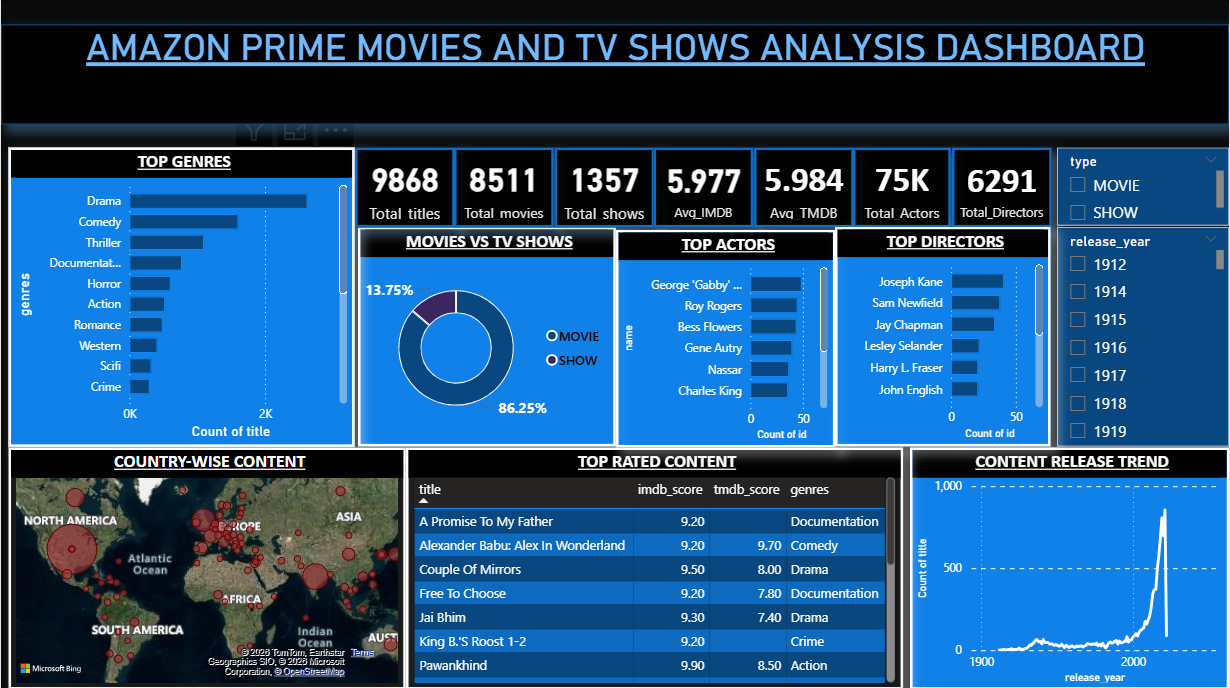

What the dashboard file says about the page in this screenshot:
{"tool":"powerbi","page":{"name":"Page 1","canvas":[1280,720],"ordinal":0},"visuals":[{"type":"donutChart","title":"MOVIES VS TV SHOWS","fields":{"Category":["titles.type"],"Y":["CountNonNull(titles.title)"]},"box":[372.3,238.1,268.3,228.7],"z":0},{"type":"lineChart","title":"CONTENT RELEASE TREND","fields":{"Category":["titles.release_year"],"Y":["CountNonNull(titles.title)"]},"box":[946.8,466.8,332.6,253.2],"z":1000},{"type":"barChart","title":"TOP GENRES","fields":{"Category":["titles.genres"],"Y":["CountNonNull(titles.title)"]},"box":[7.6,155,360.9,311.8],"z":2000},{"type":"textbox","title":"AMAZON PRIME MOVIES AND TV SHOWS ANALYSIS DASHBOARD","box":[0,26.5,1279.4,103.9],"z":3000},{"type":"card","fields":{"Values":["credits.Total_titles"]},"box":[368.5,155,103.9,83.2],"z":4000},{"type":"card","fields":{"Values":["credits.Total_movies"]},"box":[472.4,155,103.9,83.2],"z":5000},{"type":"card","fields":{"Values":["credits.Total_shows"]},"box":[576.4,155,103.9,83.2],"z":6000},{"type":"card","fields":{"Values":["credits.Avg_IMDB_score"]},"box":[680.3,155,103.9,83.2],"z":7000},{"type":"card","fields":{"Values":["credits.Avg_TMDB"]},"box":[784.3,155,103.9,83.2],"z":8000},{"type":"card","fields":{"Values":["credits.Total_Actors"]},"box":[888.2,155,102,83.2],"z":9000},{"type":"card","fields":{"Values":["credits.Total_Director"]},"box":[990.2,155,103.9,83.2],"z":10000},{"type":"slicer","fields":{"Values":["titles.type"]},"box":[1099.9,155,179.5,81.3],"z":11000},{"type":"slicer","fields":{"Values":["titles.release_year"]},"box":[1099.9,238.1,179.5,228.7],"z":12000},{"type":"map","title":"COUNTRY-WISE CONTENT","fields":{"Category":["titles.production_countries"],"Size":["CountNonNull(titles.title)"]},"box":[7.6,466.8,413.9,253.2],"z":13000},{"type":"tableEx","title":"TOP RATED CONTENT","fields":{"Values":["titles.title","titles.imdb_score","titles.tmdb_score","titles.genres"]},"box":[421.4,466.8,517.8,253.2],"z":14000},{"type":"barChart","title":"TOP ACTORS","fields":{"Category":["credits.name"],"Y":["CountNonNull(credits.id)"]},"box":[640.6,240,228.7,226.8],"z":15000},{"type":"clusteredBarChart","title":"TOP DIRECTORS","fields":{"Category":["credits.name"],"Y":["CountNonNull(credits.id)"]},"box":[869.3,238.1,224.9,228.7],"z":16000}]}

Visuals, with their boxes in screenshot pixels (x1, y1, x2, y2), scaled from the page's 1280x720 canvas onto the 1230x688 screenshot:
"MOVIES VS TV SHOWS" donutChart: 358:228:616:446
"CONTENT RELEASE TREND" lineChart: 910:446:1229:687
"TOP GENRES" barChart: 7:148:354:446
"AMAZON PRIME MOVIES AND TV SHOWS ANALYSIS DASHBOARD" textbox: 0:25:1229:125
card - credits.Total_titles: 354:148:454:228
card - credits.Total_movies: 454:148:554:228
card - credits.Total_shows: 554:148:654:228
card - credits.Avg_IMDB_score: 654:148:754:228
card - credits.Avg_TMDB: 754:148:854:228
card - credits.Total_Actors: 854:148:952:228
card - credits.Total_Director: 952:148:1051:228
slicer - titles.type: 1057:148:1229:226
slicer - titles.release_year: 1057:228:1229:446
"COUNTRY-WISE CONTENT" map: 7:446:405:687
"TOP RATED CONTENT" tableEx: 405:446:903:687
"TOP ACTORS" barChart: 616:229:835:446
"TOP DIRECTORS" clusteredBarChart: 835:228:1051:446
